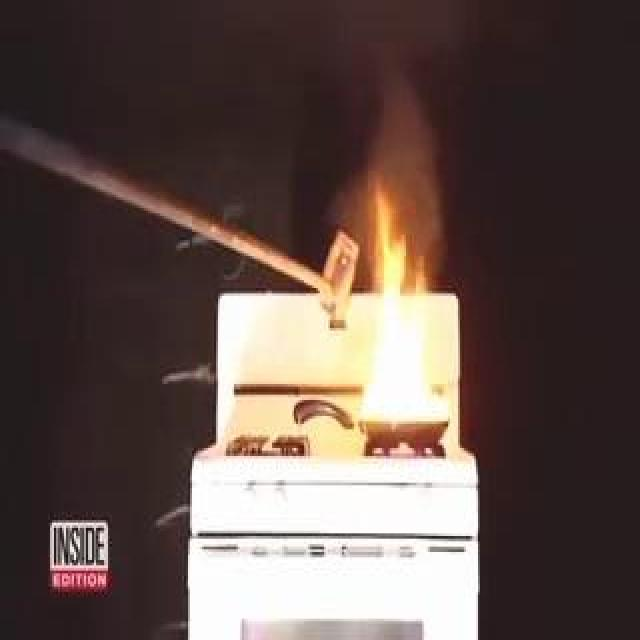Fire: (353, 208, 441, 437)
